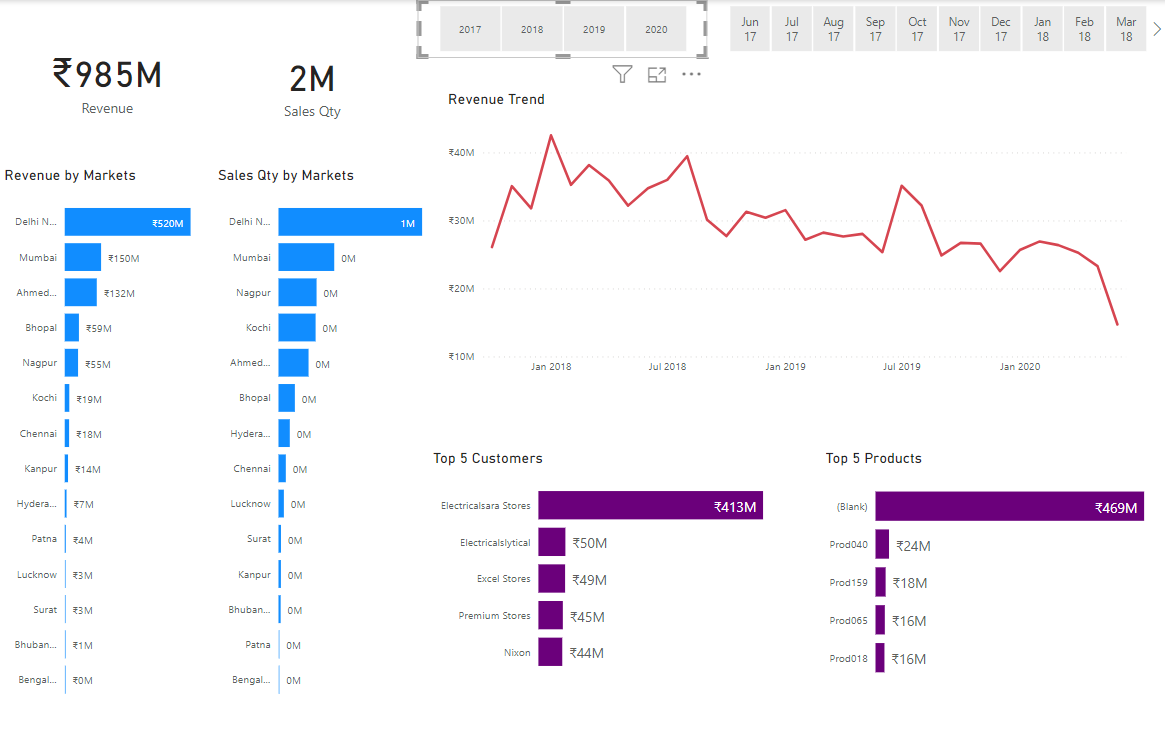

Layout of this report page (visuals, bound fields, positions):
{"tool":"powerbi","page":{"name":"Key Insights","canvas":[1350,850],"ordinal":0},"visuals":[{"type":"card","fields":{"Values":["BaseMeasures (2).Revenue"]},"box":[0,0,247.9,184.6],"z":0},{"type":"card","fields":{"Values":["BaseMeasures (2).Sales Qty"]},"box":[247.9,0,227.9,193.1],"z":1000},{"type":"barChart","title":"Revenue by Markets","fields":{"Y":["BaseMeasures (2).Revenue"],"Category":["sales markets.markets_name"]},"box":[0,193.1,247.9,631.9],"z":2000},{"type":"barChart","title":"Sales Qty by Markets","fields":{"Y":["BaseMeasures (2).Sales Qty"],"Category":["sales markets.markets_name"]},"box":[247.9,193.1,247.9,631.9],"z":3000},{"type":"slicer","fields":{"Values":["sales date.year"]},"box":[483.2,0,335.5,66.5],"z":4000},{"type":"slicer","fields":{"Values":["sales date.cy_date"]},"box":[818.6,0,531.7,66.5],"z":5000},{"type":"barChart","title":"Top 5 Customers","fields":{"Y":["BaseMeasures (2).Revenue"],"Category":["sales customers.custmer_name"]},"box":[495.8,519,446.2,274.3],"z":6000},{"type":"barChart","title":"Top 5 Products","fields":{"Y":["BaseMeasures (2).Revenue"],"Category":["sales products.product_code"]},"box":[950.7,519.2,399.5,282.8],"z":7000},{"type":"lineChart","title":"Revenue Trend","fields":{"Y":["BaseMeasures (2).Revenue"],"Category":["sales date.cy_date"]},"box":[513.8,104.4,809.1,338.6],"z":8000}]}

Visuals, with their boxes in screenshot pixels (x1, y1, x2, y2), scaled from the page's 1350x850 canvas onto the 1165x731 screenshot:
card - BaseMeasures (2).Revenue: 0:0:214:159
card - BaseMeasures (2).Sales Qty: 214:0:411:166
"Revenue by Markets" barChart: 0:166:214:710
"Sales Qty by Markets" barChart: 214:166:428:710
slicer - sales date.year: 417:0:707:57
slicer - sales date.cy_date: 706:0:1164:57
"Top 5 Customers" barChart: 428:446:813:682
"Top 5 Products" barChart: 820:447:1164:690
"Revenue Trend" lineChart: 443:90:1142:381
